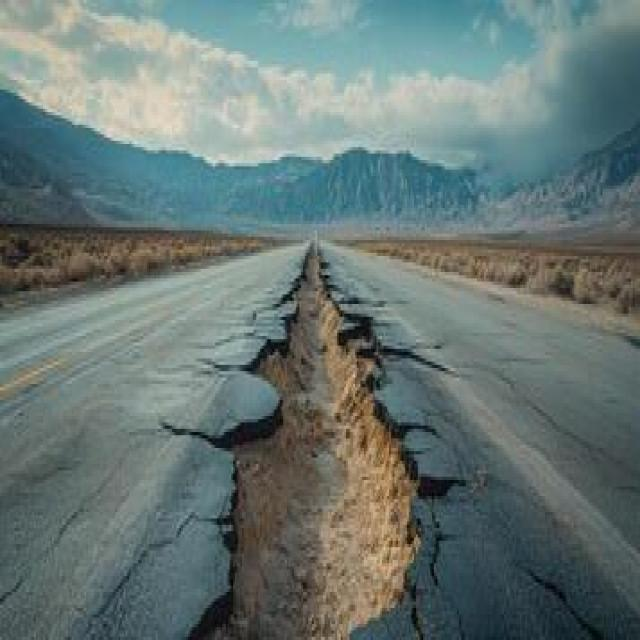road collapse: (149, 136, 504, 640)
